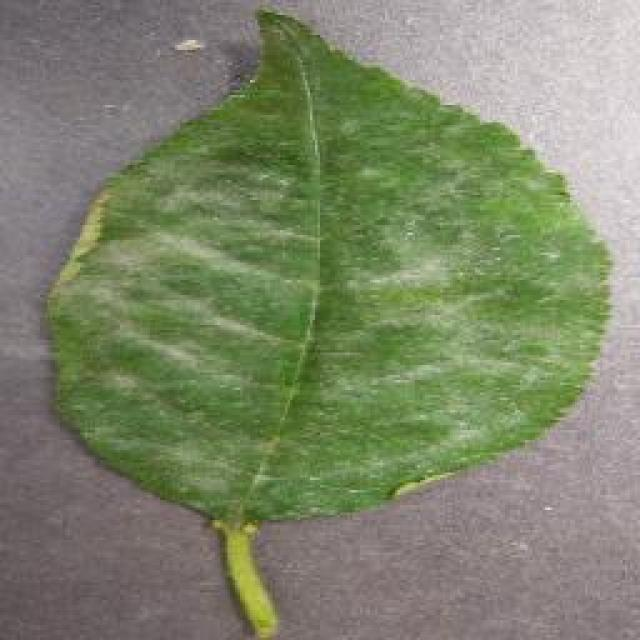Cherry___Powdery_mildew: (32, 5, 622, 640)
